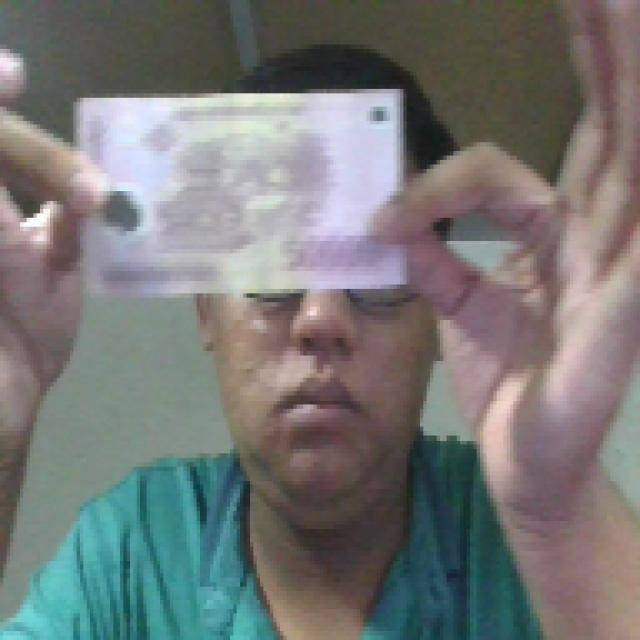50 000 VND: (66, 80, 416, 298)
